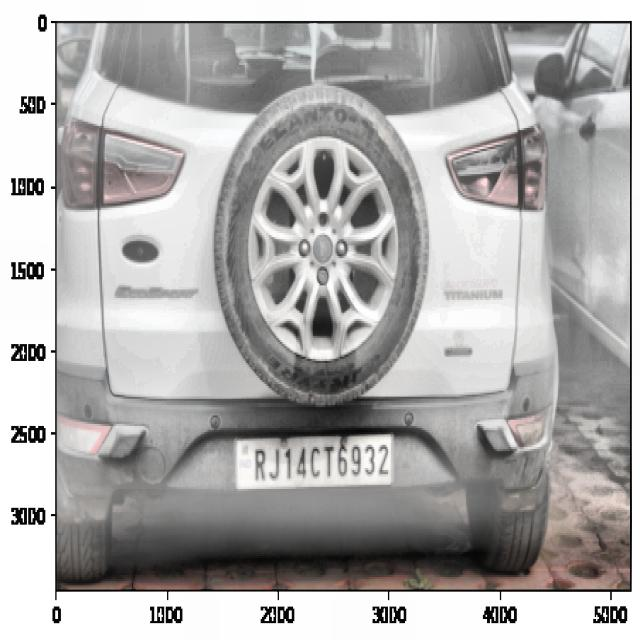license_plate: (251, 434, 392, 487)
